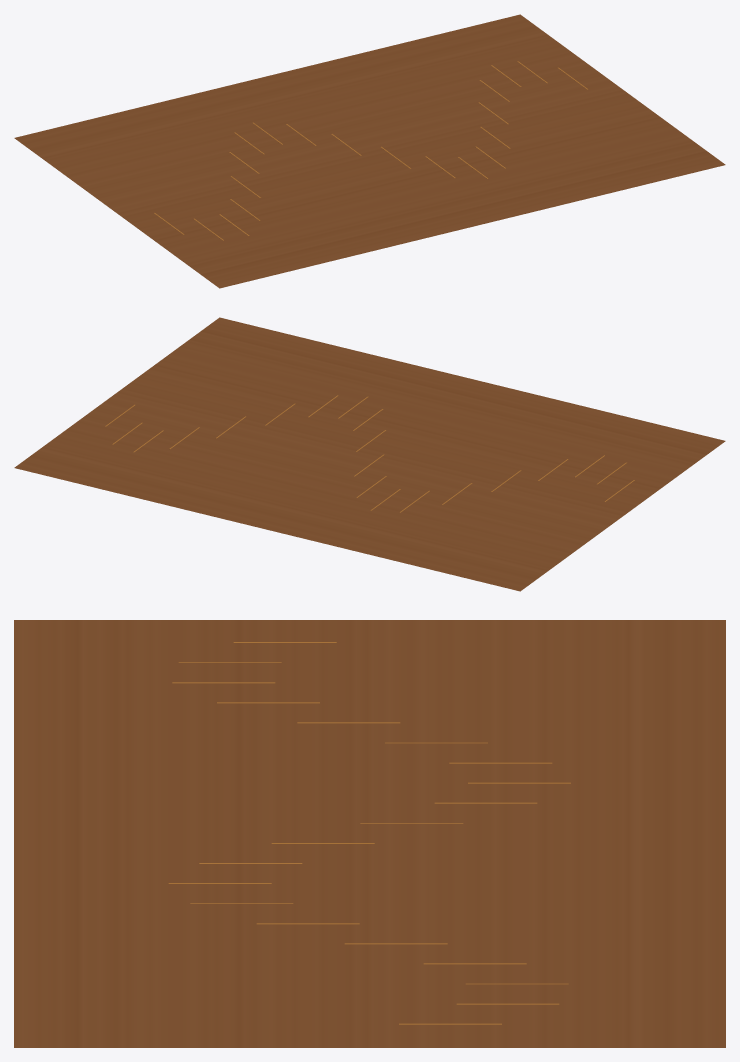
The model's file is 238_L118_L1_LayerReference.obj.
3 renders of one model, top to bottom at view 1: azimuth 30°, elevation 25°; view 2: azimuth 150°, elevation 25°; view 3: azimuth 270°, elevation 25°, orthographic. The views are drawn at different scales.
Visible parts, largest first — view 1: 238_L118_L1_LayerReference; view 2: 238_L118_L1_LayerReference; view 3: 238_L118_L1_LayerReference.
Boxes of the visible parts, x1,y1,x2,y2 form: 238_L118_L1_LayerReference: [14, 14, 725, 288]; 238_L118_L1_LayerReference: [14, 317, 725, 591]; 238_L118_L1_LayerReference: [14, 620, 725, 1047].
Size of the model in its own units: 0.472 by 0.000564 by 0.332.
2 materials, 2 textured.
